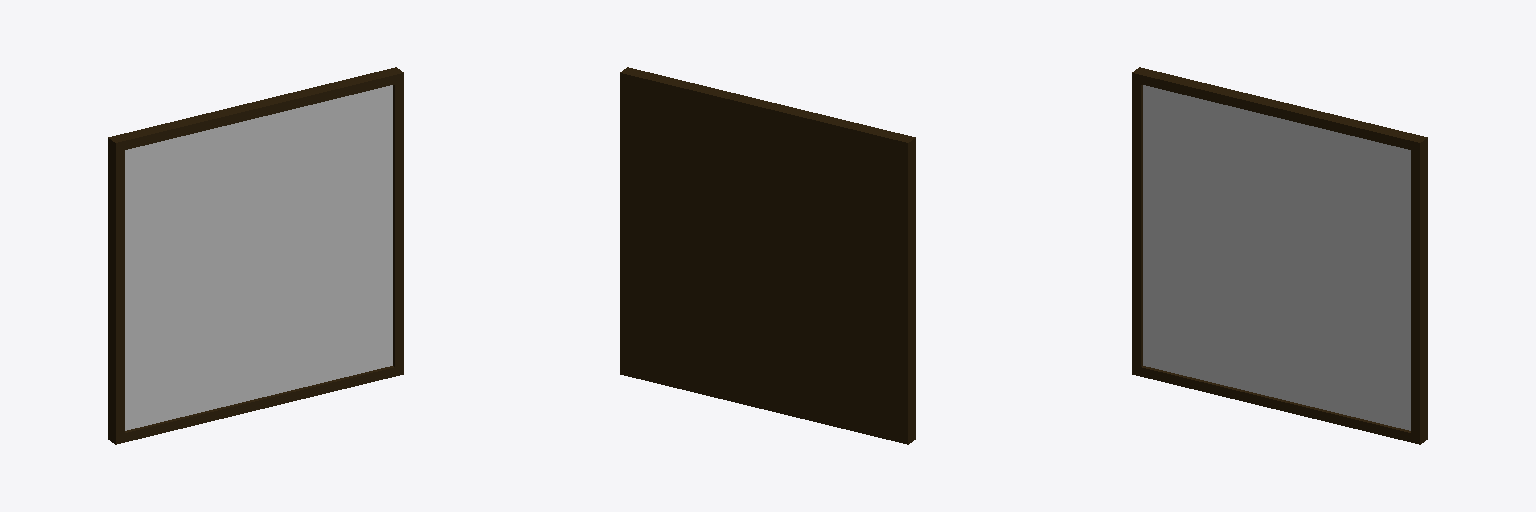
3 renders of one model, left to right at view 1: azimuth 30°, elevation 25°; view 2: azimuth 150°, elevation 25°; view 3: azimuth 330°, elevation 25°, orthographic.
Parts seen in each view (by area): view 1: Painting; view 2: Painting; view 3: Painting.
Part boxes in pixels (left/top/right/bottom): Painting: left=108, top=67, right=403, bottom=444; Painting: left=620, top=67, right=915, bottom=444; Painting: left=1132, top=67, right=1427, bottom=444.
Bounding box in the file's own units: 0.64 × 0.64 × 0.0294.
2 materials, 1 textured.